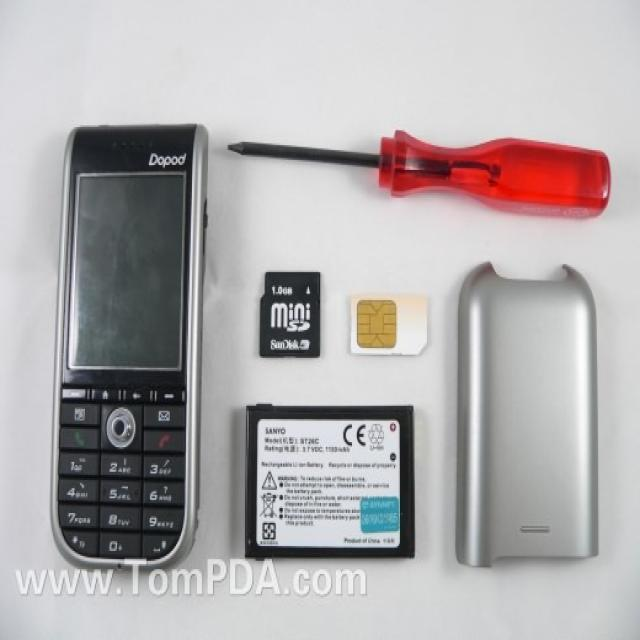screw_driver: (226, 130, 614, 219)
